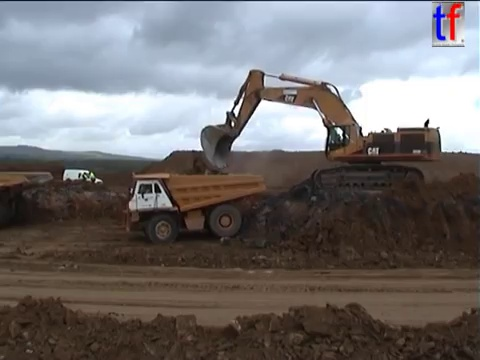excavator: (198, 66, 445, 201)
truck: (121, 170, 267, 245), (1, 169, 54, 223)
worker: (87, 169, 97, 190), (80, 169, 88, 188)
